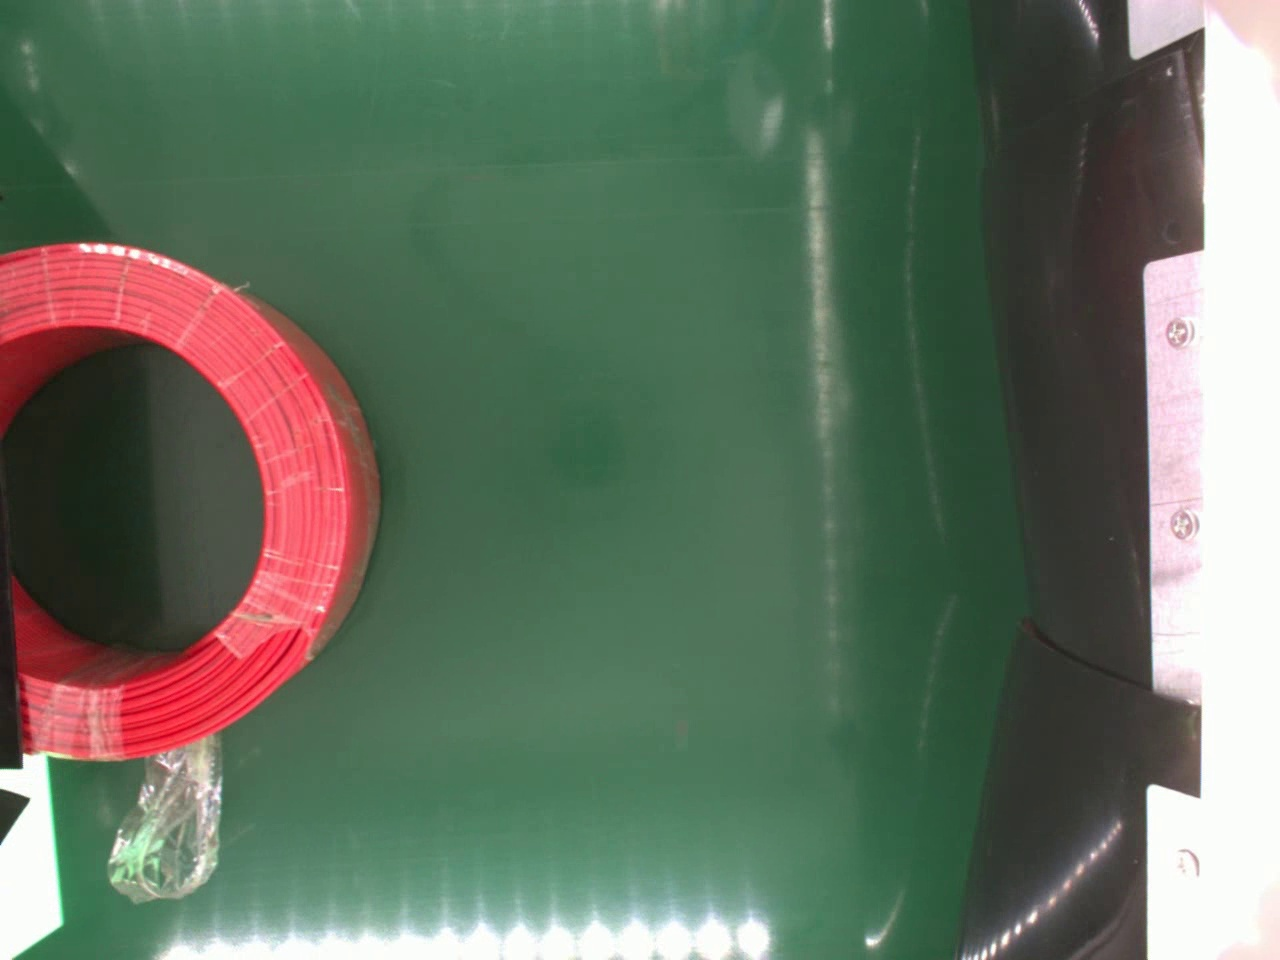red: (0, 235, 385, 765)
